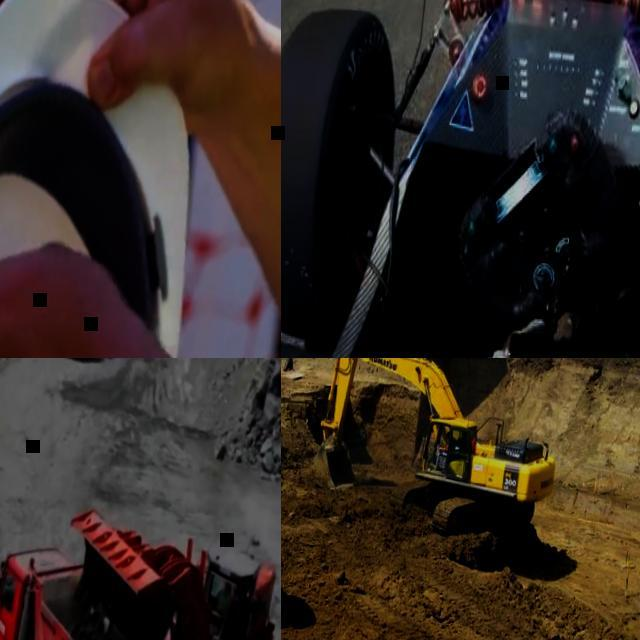helmet: (0, 0, 212, 358)
